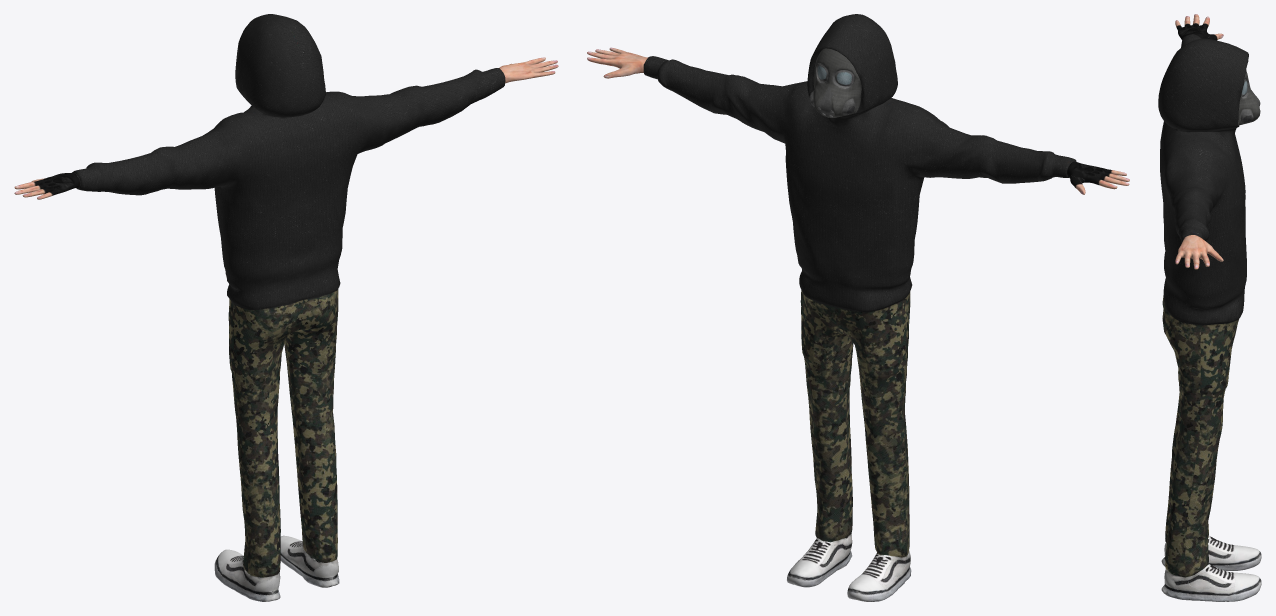
The model's file is bomber.obj.
3 renders of one model, left to right at view 1: azimuth 30°, elevation 25°; view 2: azimuth 150°, elevation 25°; view 3: azimuth 270°, elevation 25°, orthographic. The views are drawn at different scales.
Visible parts, largest first — view 1: pers_Cube.001; view 2: pers_Cube.001; view 3: pers_Cube.001.
Boxes of the visible parts, x1,y1,x2,y2 form: pers_Cube.001: (14,14,558,601); pers_Cube.001: (587,14,1129,601); pers_Cube.001: (1158,14,1261,601).
Size of the model in its own units: 11.43 by 11.28 by 1.96.
